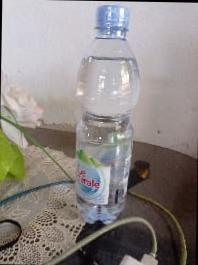Plastik: (76, 4, 139, 223)
